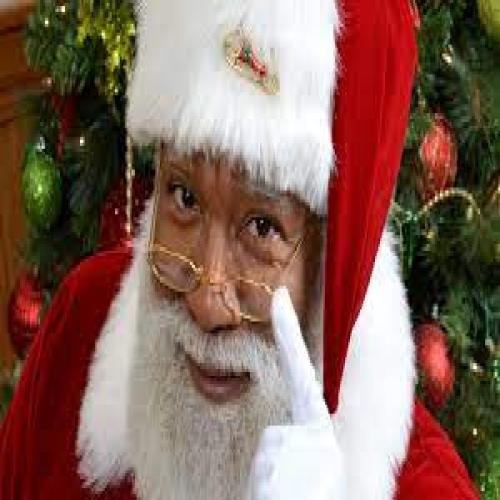Santa: (68, 4, 444, 500)
